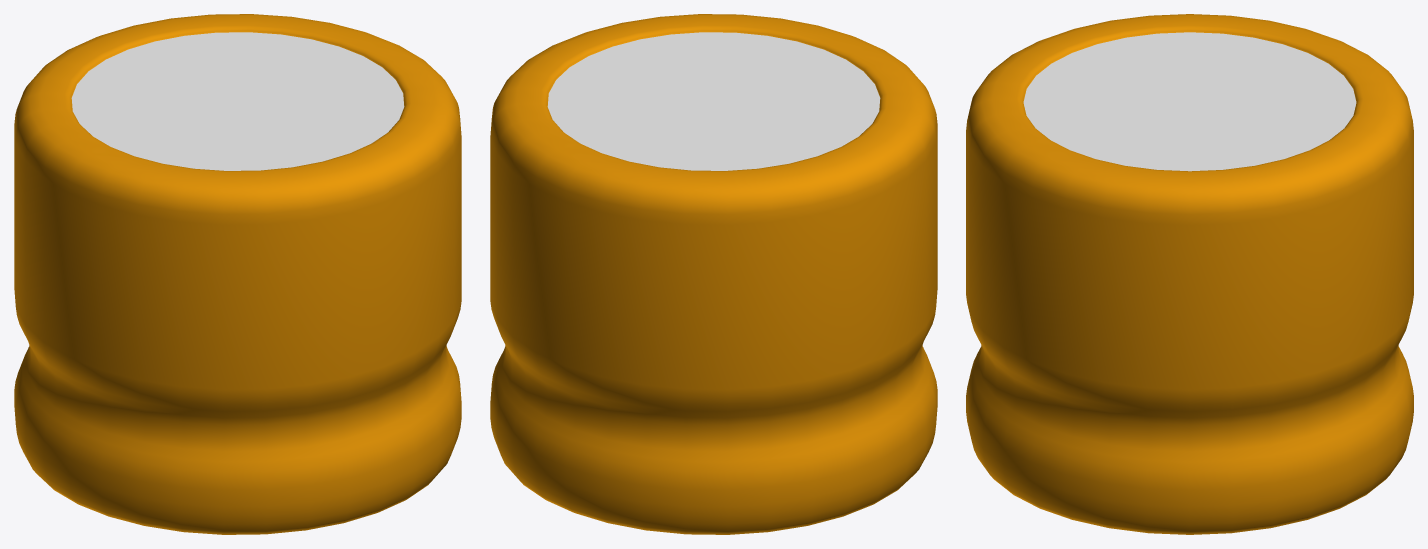
The model's file is Capacitator_1_Small.fbx.
3 views of the same model, side by side, from view 1: azimuth 30°, elevation 25°; view 2: azimuth 150°, elevation 25°; view 3: azimuth 270°, elevation 25° (orthographic).
Visible parts, largest first — view 1: Capacitator_1_Small; view 2: Capacitator_1_Small; view 3: Capacitator_1_Small.
Boxes of the visible parts, <box> form: Capacitator_1_Small: <box>14,14,461,534</box>; Capacitator_1_Small: <box>490,14,937,534</box>; Capacitator_1_Small: <box>966,14,1413,534</box>.
Size of the model in its own units: 154 by 132 by 154.
